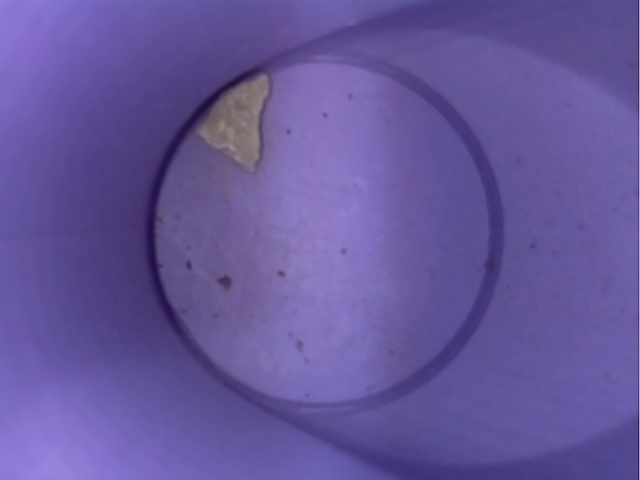caillou: (194, 64, 281, 180)
